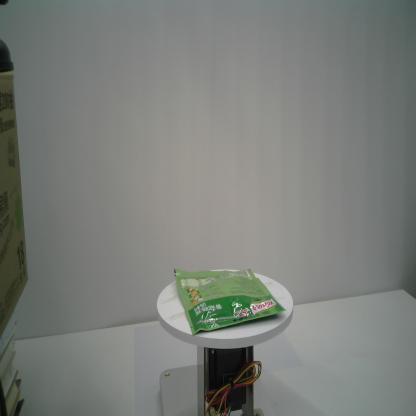Seasoner: (172, 265, 288, 336)
